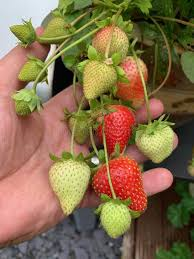ripe: (94, 154, 151, 217), (93, 102, 137, 158)
unripe: (48, 158, 92, 215), (113, 52, 152, 106), (132, 121, 177, 166), (82, 57, 121, 101), (90, 24, 129, 63), (100, 198, 132, 238), (65, 109, 94, 146), (39, 18, 74, 43), (13, 87, 41, 117), (16, 58, 48, 83), (8, 21, 37, 46)
